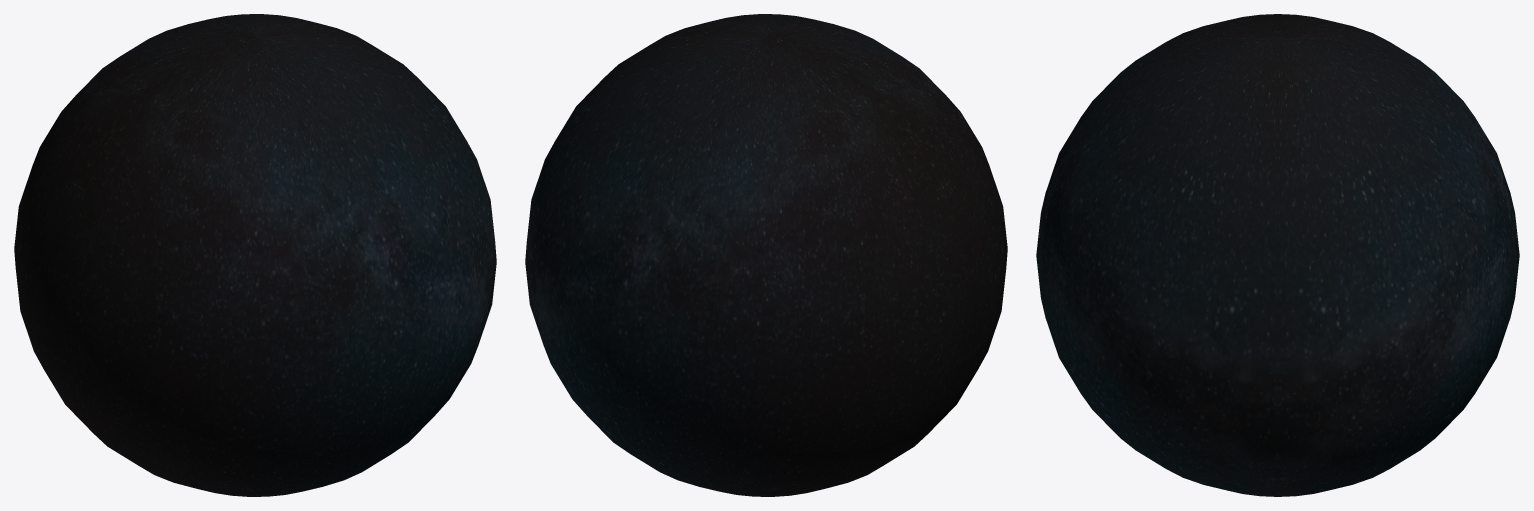
The model's file is EpisodeIntroOutro.obj.
The picture shows the model from 3 angles, left to right: view 1: azimuth 30°, elevation 25°; view 2: azimuth 150°, elevation 25°; view 3: azimuth 270°, elevation 25°; orthographic projection.
Parts seen in each view (by area): view 1: OuterSpace.Display; view 2: OuterSpace.Display; view 3: OuterSpace.Display.
Part boxes in pixels (<box>): OuterSpace.Display: <box>14,14,496,496</box>; OuterSpace.Display: <box>525,14,1007,496</box>; OuterSpace.Display: <box>1036,14,1519,496</box>.
Size of the model in its own units: 2192 by 2192 by 2192.
